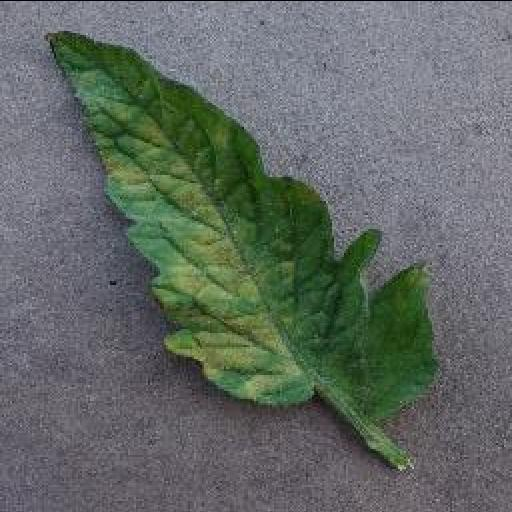disease_tomato: (44, 28, 438, 418)
